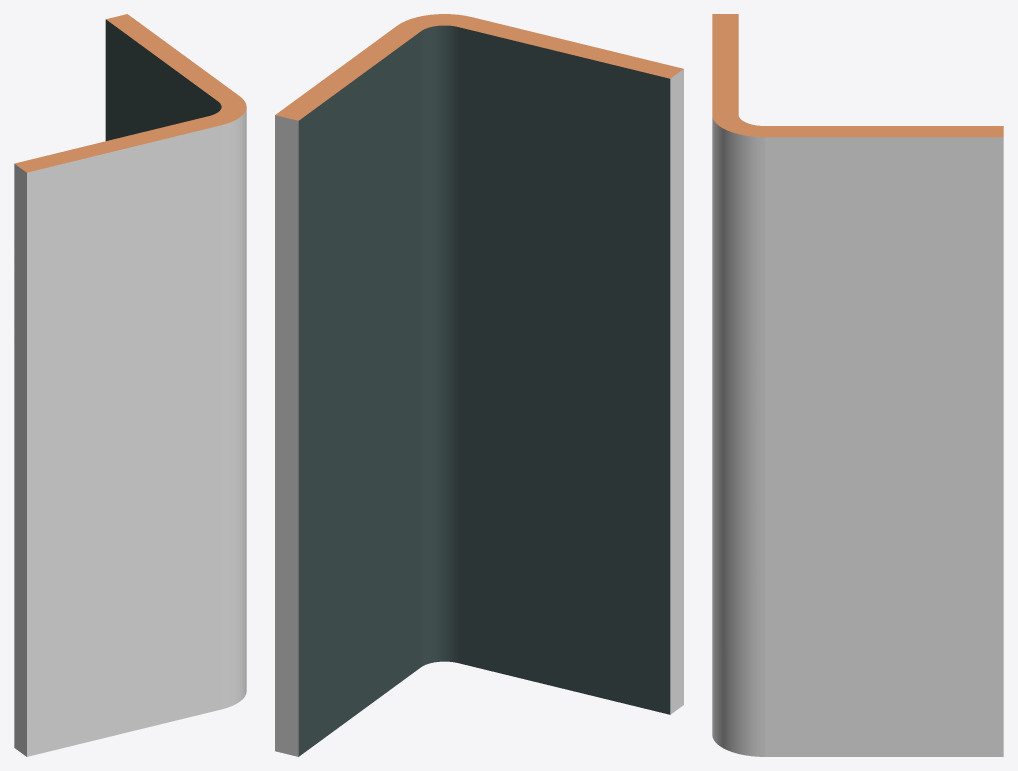
The model's file is Wall Corner Rond.glb.
3 views of the same model, side by side, from view 1: azimuth 30°, elevation 25°; view 2: azimuth 150°, elevation 25°; view 3: azimuth 270°, elevation 25° (orthographic). The views are drawn at different scales.
Parts seen in each view (by area): view 1: wallCornerRond(Clone); view 2: wallCornerRond(Clone); view 3: wallCornerRond(Clone).
Part boxes in pixels (<box>): wallCornerRond(Clone): <box>14,14,246,756</box>; wallCornerRond(Clone): <box>275,14,683,756</box>; wallCornerRond(Clone): <box>712,14,1003,756</box>.
Bounding box in the file's own units: 0.55 × 1.29 × 0.55.
